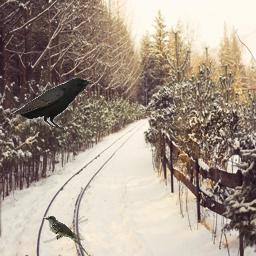Crow: (12, 77, 94, 131)
Cuckoo: (43, 216, 88, 255)
